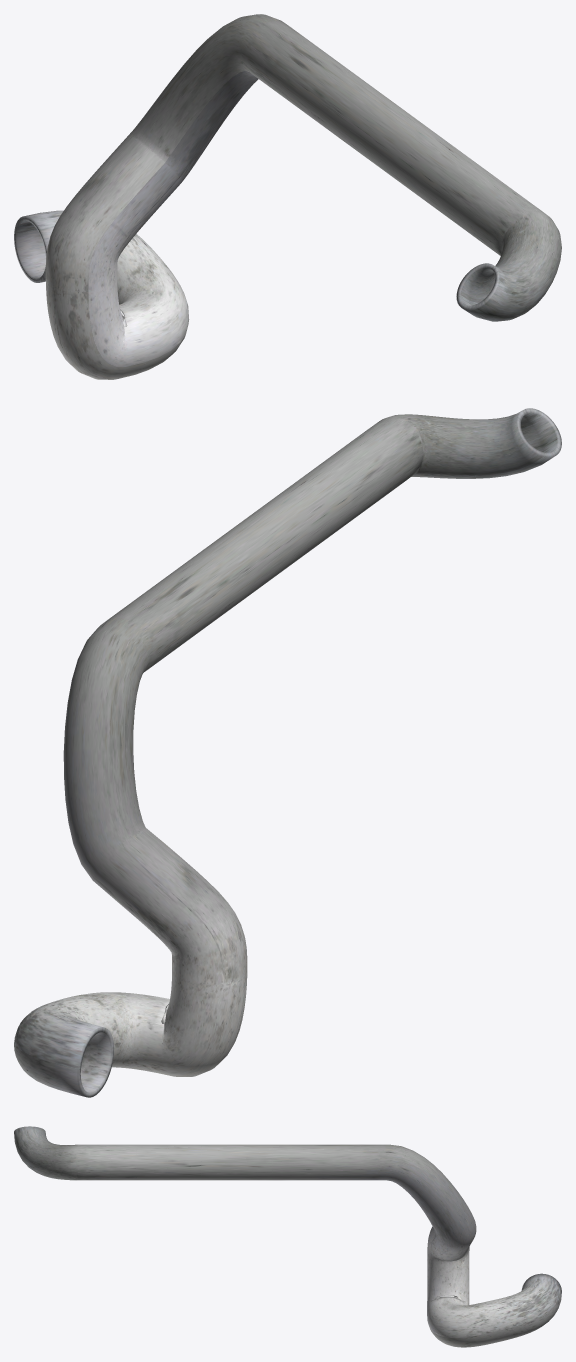
Rendered from turboSmall_intercooler_tube.obj.
3 renders of one model, top to bottom at view 1: azimuth 30°, elevation 25°; view 2: azimuth 150°, elevation 25°; view 3: azimuth 270°, elevation 25°, orthographic. The views are drawn at different scales.
Parts seen in each view (by area): view 1: TurboSmall-Intercooler-Tube___BezierCurve.011; view 2: TurboSmall-Intercooler-Tube___BezierCurve.011; view 3: TurboSmall-Intercooler-Tube___BezierCurve.011.
Part boxes in pixels (x1,y1,x2,y2): TurboSmall-Intercooler-Tube___BezierCurve.011: (14, 14, 561, 379); TurboSmall-Intercooler-Tube___BezierCurve.011: (14, 408, 561, 1097); TurboSmall-Intercooler-Tube___BezierCurve.011: (14, 1126, 561, 1347).
Size of the model in its own units: 0.1385 by 0.2533 by 0.5801.
